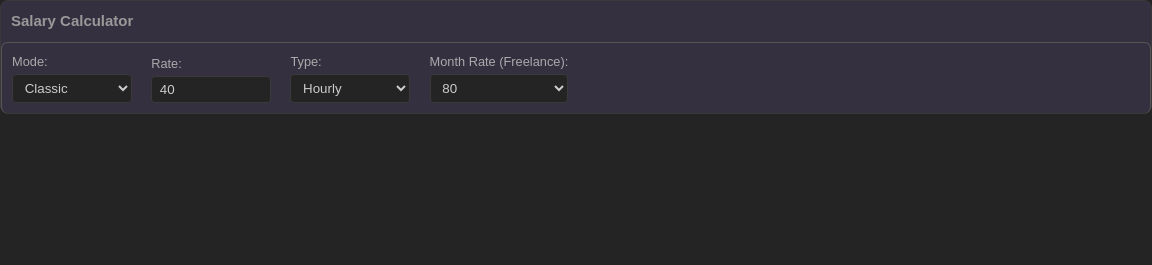
Test: SalaryCalculator › should update other inputs correctly
The image size is (1152, 265).
Select "Daily" in the dropdown labelled "Type:" at x=350, y=89, box [290,74,410,103]
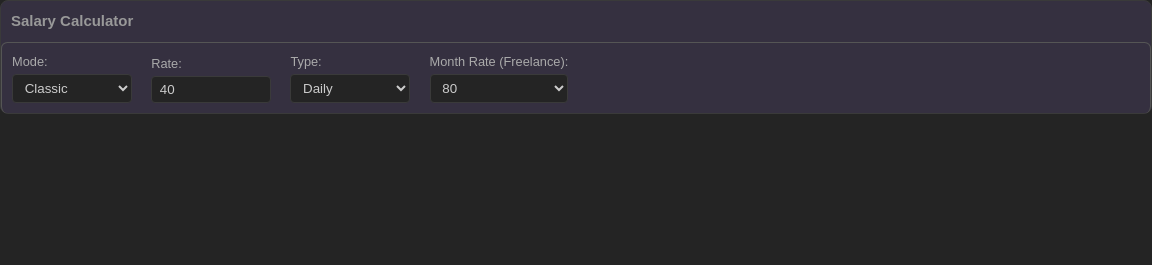
Select "300" in the dropdown labelled "Month Rate (Freelance):" at x=499, y=89, box [430,74,568,103]
Wait 600 ms
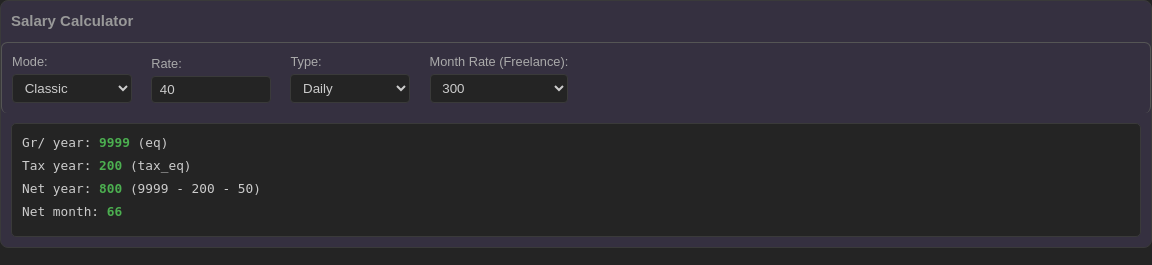
Now the text "9999" is shown, box [99,135,130,150]
